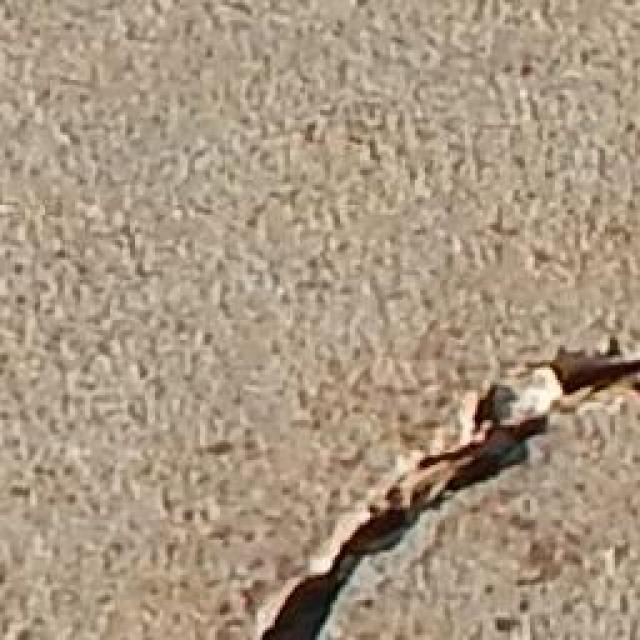concrete-crack: (247, 351, 638, 640)
